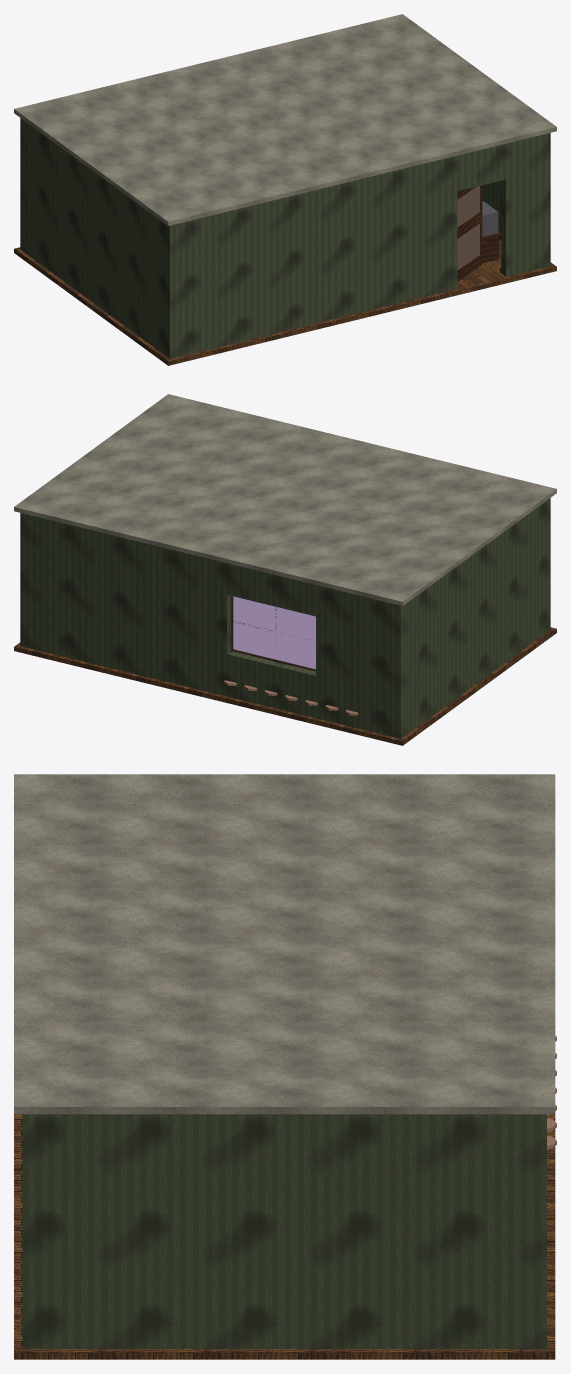
Rendered from ep_lounge.glb.
3 renders of one model, top to bottom at view 1: azimuth 30°, elevation 25°; view 2: azimuth 150°, elevation 25°; view 3: azimuth 270°, elevation 25°, orthographic. The views are drawn at different scales.
Parts seen in each view (by area): view 1: wallpaper-col, plaster-col, parquet-col, flat, wood_dark, flat.009, wood_dark-col; view 2: wallpaper-col, plaster-col, flat.002, parquet-col; view 3: plaster-col, wallpaper-col, parquet-col.
Part boxes in pixels (x1,y1,x2,y2): wallpaper-col: (20,118,550,358); plaster-col: (14,14,556,225); parquet-col: (14,239,556,365); flat: (457,186,479,270); wood_dark: (457,185,501,281); flat.009: (482,201,498,236); wood_dark-col: (482,233,499,263); wallpaper-col: (20,498,550,738); plaster-col: (14,394,556,605); flat.002: (233,596,315,669); parquet-col: (14,627,556,745); plaster-col: (14,774,555,1114); wallpaper-col: (22,1114,546,1348); parquet-col: (14,1114,555,1359).
Size of the model in its own units: 9.6 by 3.4 by 6.62.
Materials: 37 (11 with a texture image).
